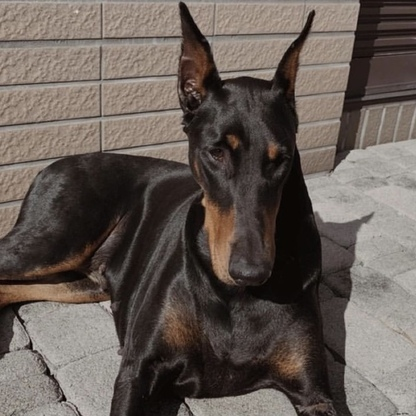doberman: (18, 15, 352, 416)
